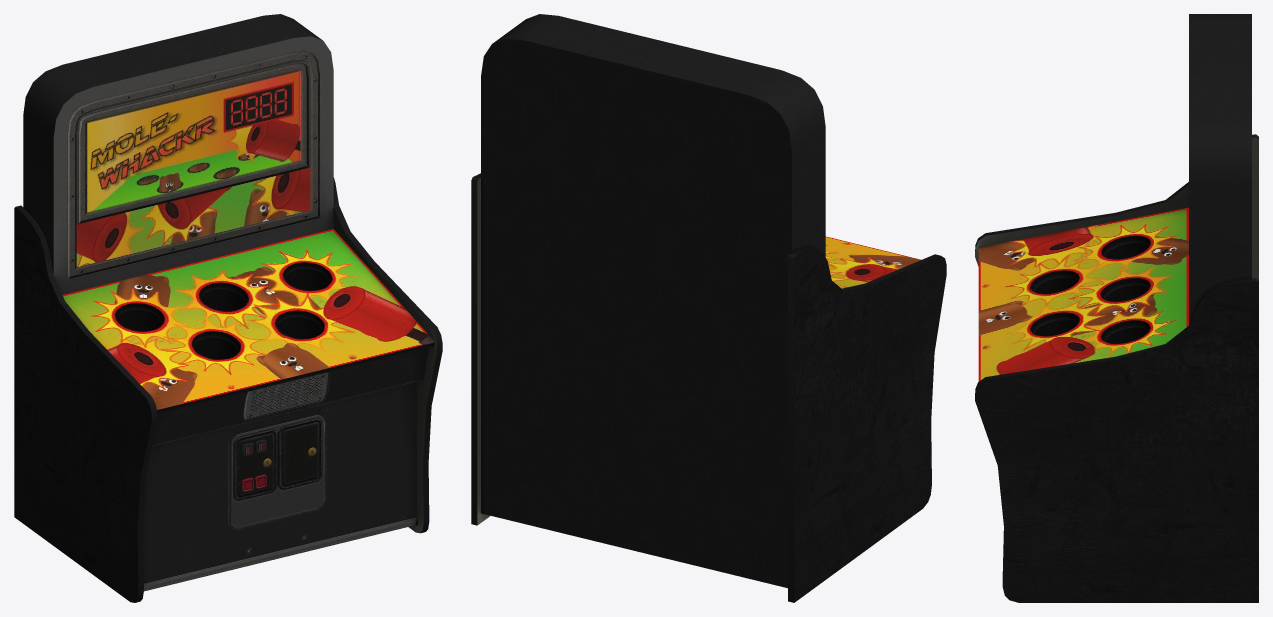
Rendered from table.obj.
The picture shows the model from 3 angles, left to right: view 1: azimuth 30°, elevation 25°; view 2: azimuth 150°, elevation 25°; view 3: azimuth 270°, elevation 25°; orthographic projection. The views are drawn at different scales.
Parts seen in each view (by area): view 1: default; view 2: default; view 3: default.
Part boxes in pixels (<box>): default: <box>14,14,442,602</box>; default: <box>471,14,946,602</box>; default: <box>975,14,1258,602</box>.
Size of the model in its own units: 66.26 by 96.64 by 54.17.
1 material, 1 textured.
